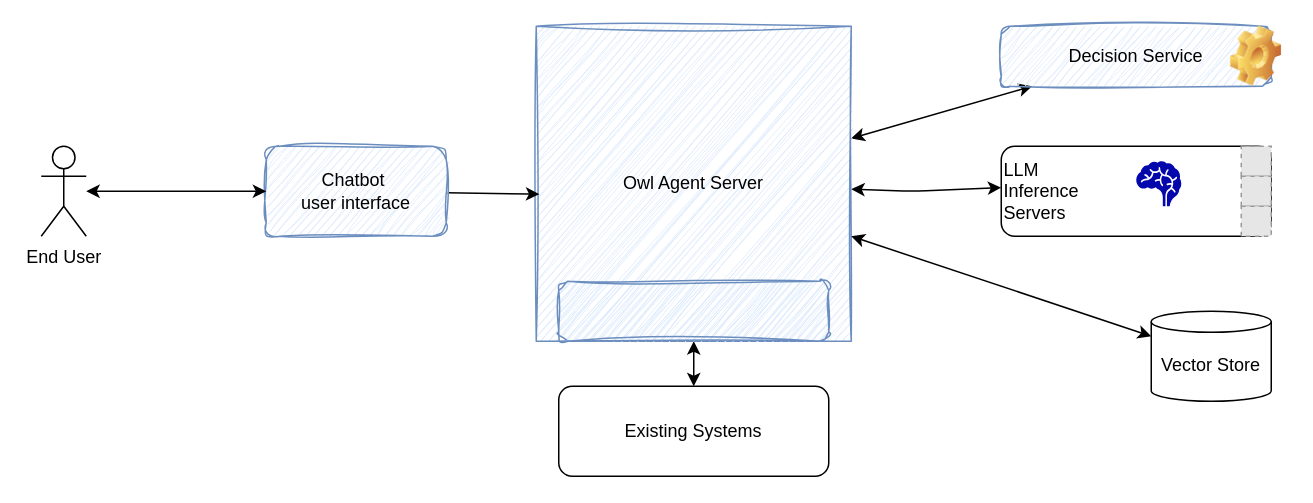
The diagram is 1313 pixels wide and 503 high, and some of its shapes have lost their labels. Grey dashed boxes stand in for pictures. Here are the shapes that lost their labels. From the top down, the centre of each, then its label:
At [1256,56]: "Rule-based".
At [1158,183]: "LLM".
At [693,310]: "tools".
